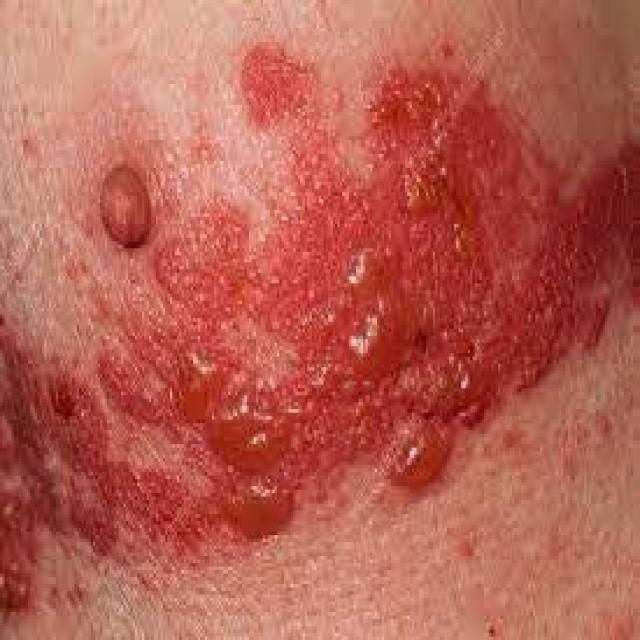Shingles: (0, 42, 640, 617)
